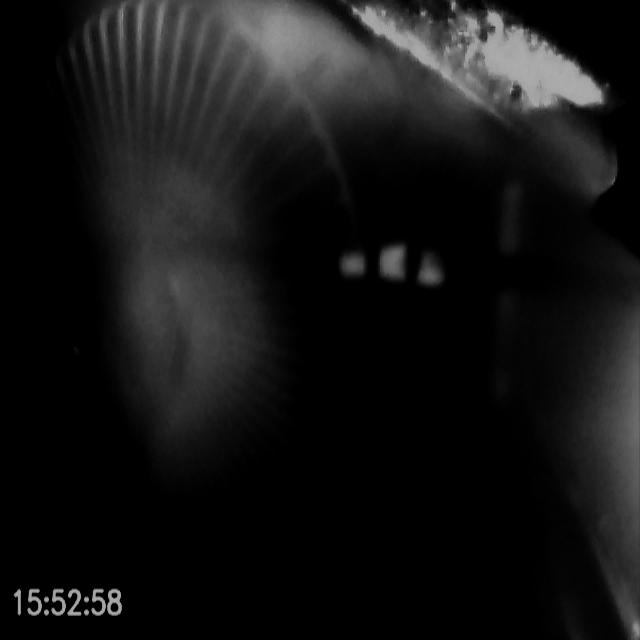white-dots: (336, 240, 448, 290)
